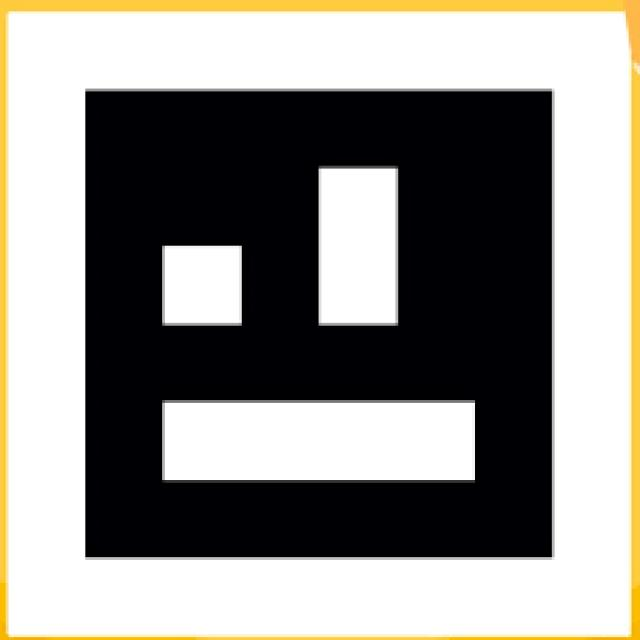aruco: (81, 71, 564, 562)
